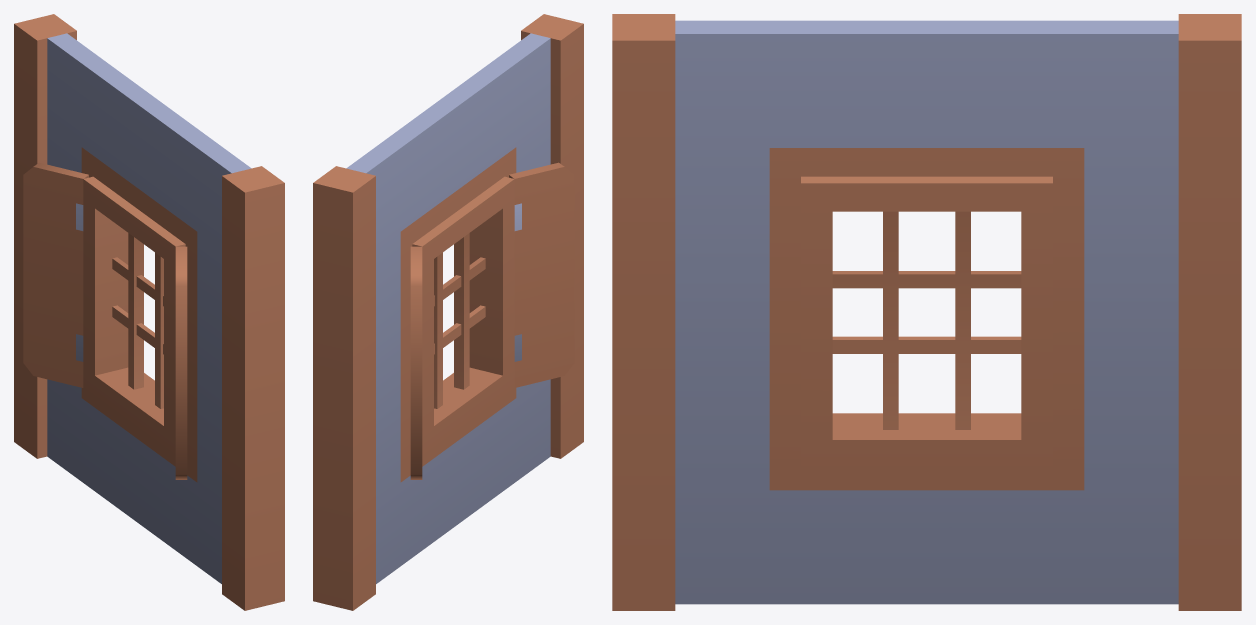
File: wall-window-shutters.glb
The picture shows the model from 3 angles, left to right: view 1: azimuth 30°, elevation 25°; view 2: azimuth 150°, elevation 25°; view 3: azimuth 270°, elevation 25°; orthographic projection. The views are drawn at different scales.
Visible parts, largest first — view 1: wall-window-shutters; view 2: wall-window-shutters; view 3: wall-window-shutters.
Boxes of the visible parts, x1,y1,x2,y2 form: wall-window-shutters: (14, 14, 284, 610); wall-window-shutters: (313, 14, 583, 610); wall-window-shutters: (612, 14, 1241, 610).
Size of the model in its own units: 0.175 by 1 by 1.
1 material, 1 textured.
